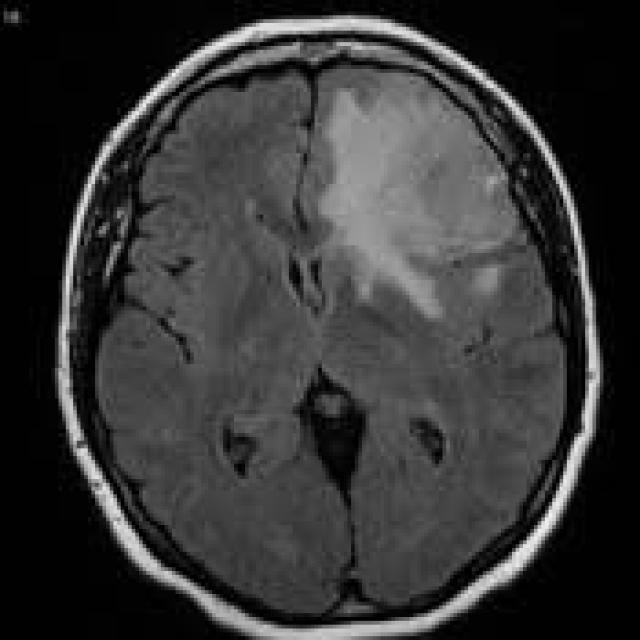tumor: (317, 69, 519, 315)
